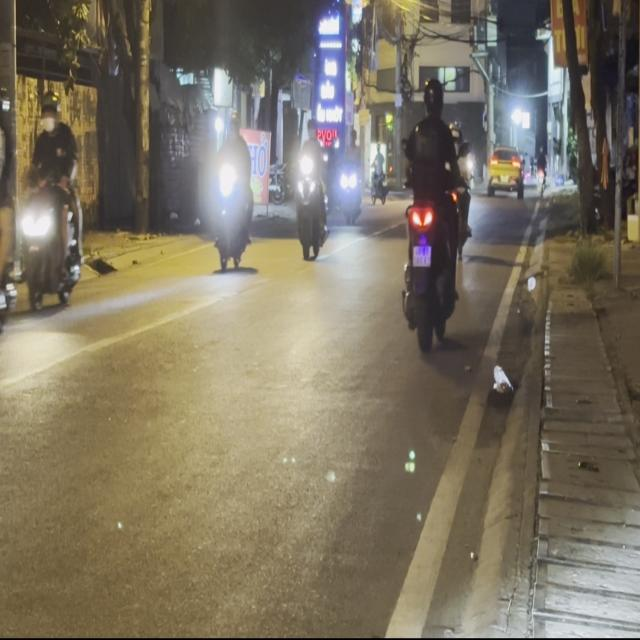helmet: (421, 75, 444, 116), (39, 91, 60, 135)
licenseplate: (398, 73, 468, 351), (16, 88, 86, 315), (0, 85, 19, 355)
nohelmet: (412, 243, 431, 266)
